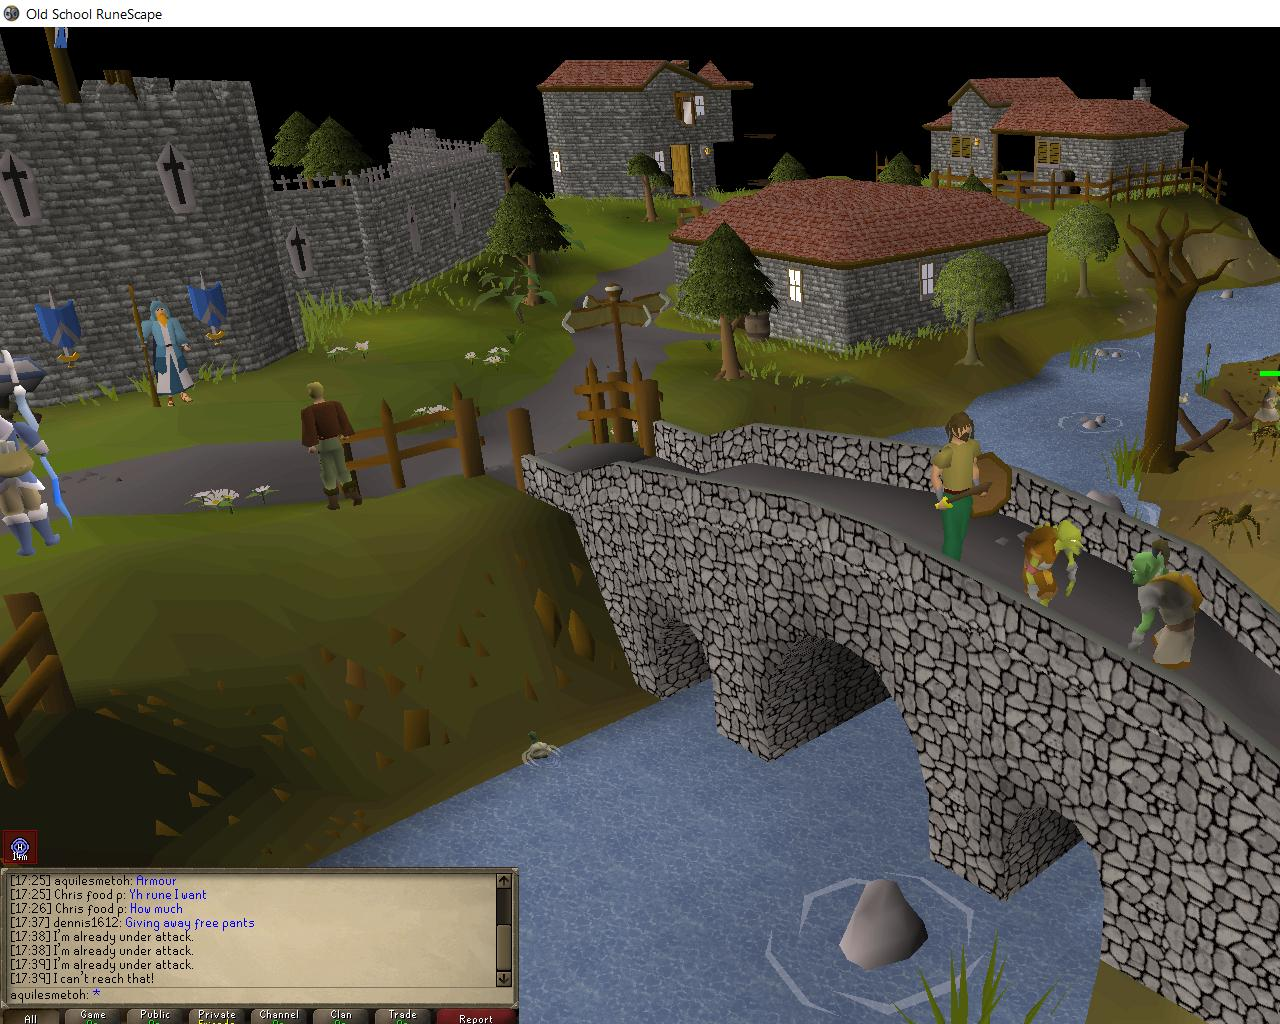Goblin: (1119, 538, 1207, 677), (1013, 513, 1087, 614)
